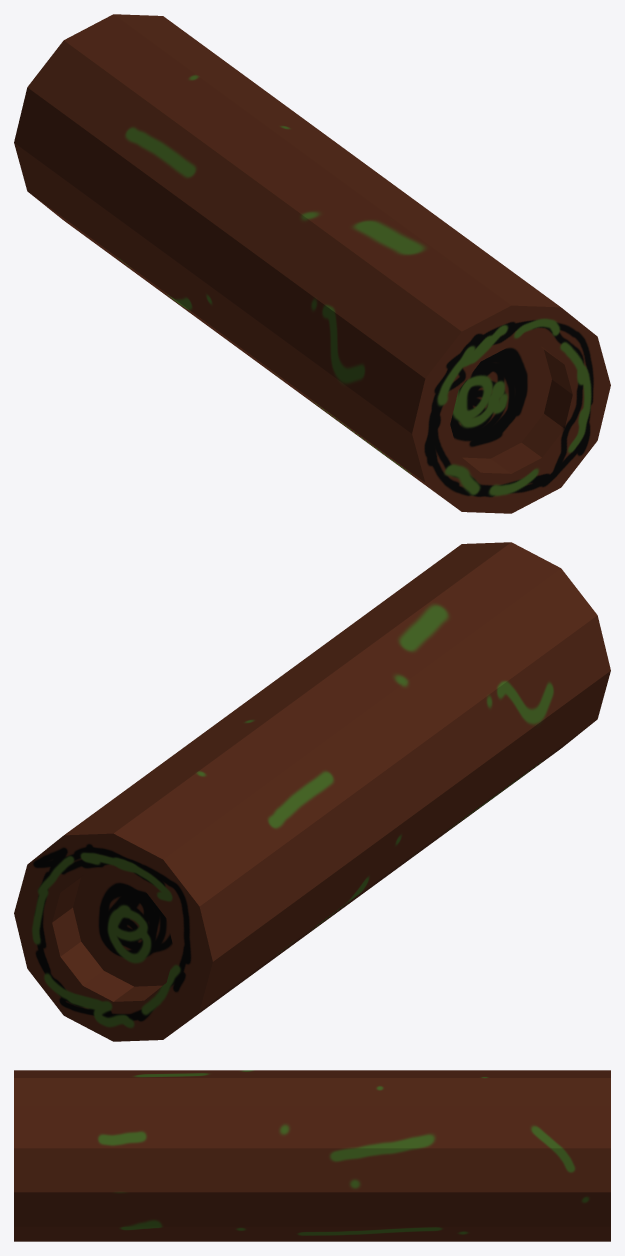
File: Tronco.fbx
3 views of the same model, one above another, from view 1: azimuth 30°, elevation 25°; view 2: azimuth 150°, elevation 25°; view 3: azimuth 270°, elevation 25° (orthographic). The views are drawn at different scales.
Visible parts, largest first — view 1: Cylinder; view 2: Cylinder; view 3: Cylinder.
Boxes of the visible parts, x1,y1,x2,y2 form: Cylinder: [14, 14, 610, 513]; Cylinder: [14, 542, 610, 1041]; Cylinder: [14, 1070, 610, 1241].
Bounding box in the file's own units: 216 × 216 × 748.
1 material, 1 textured.
